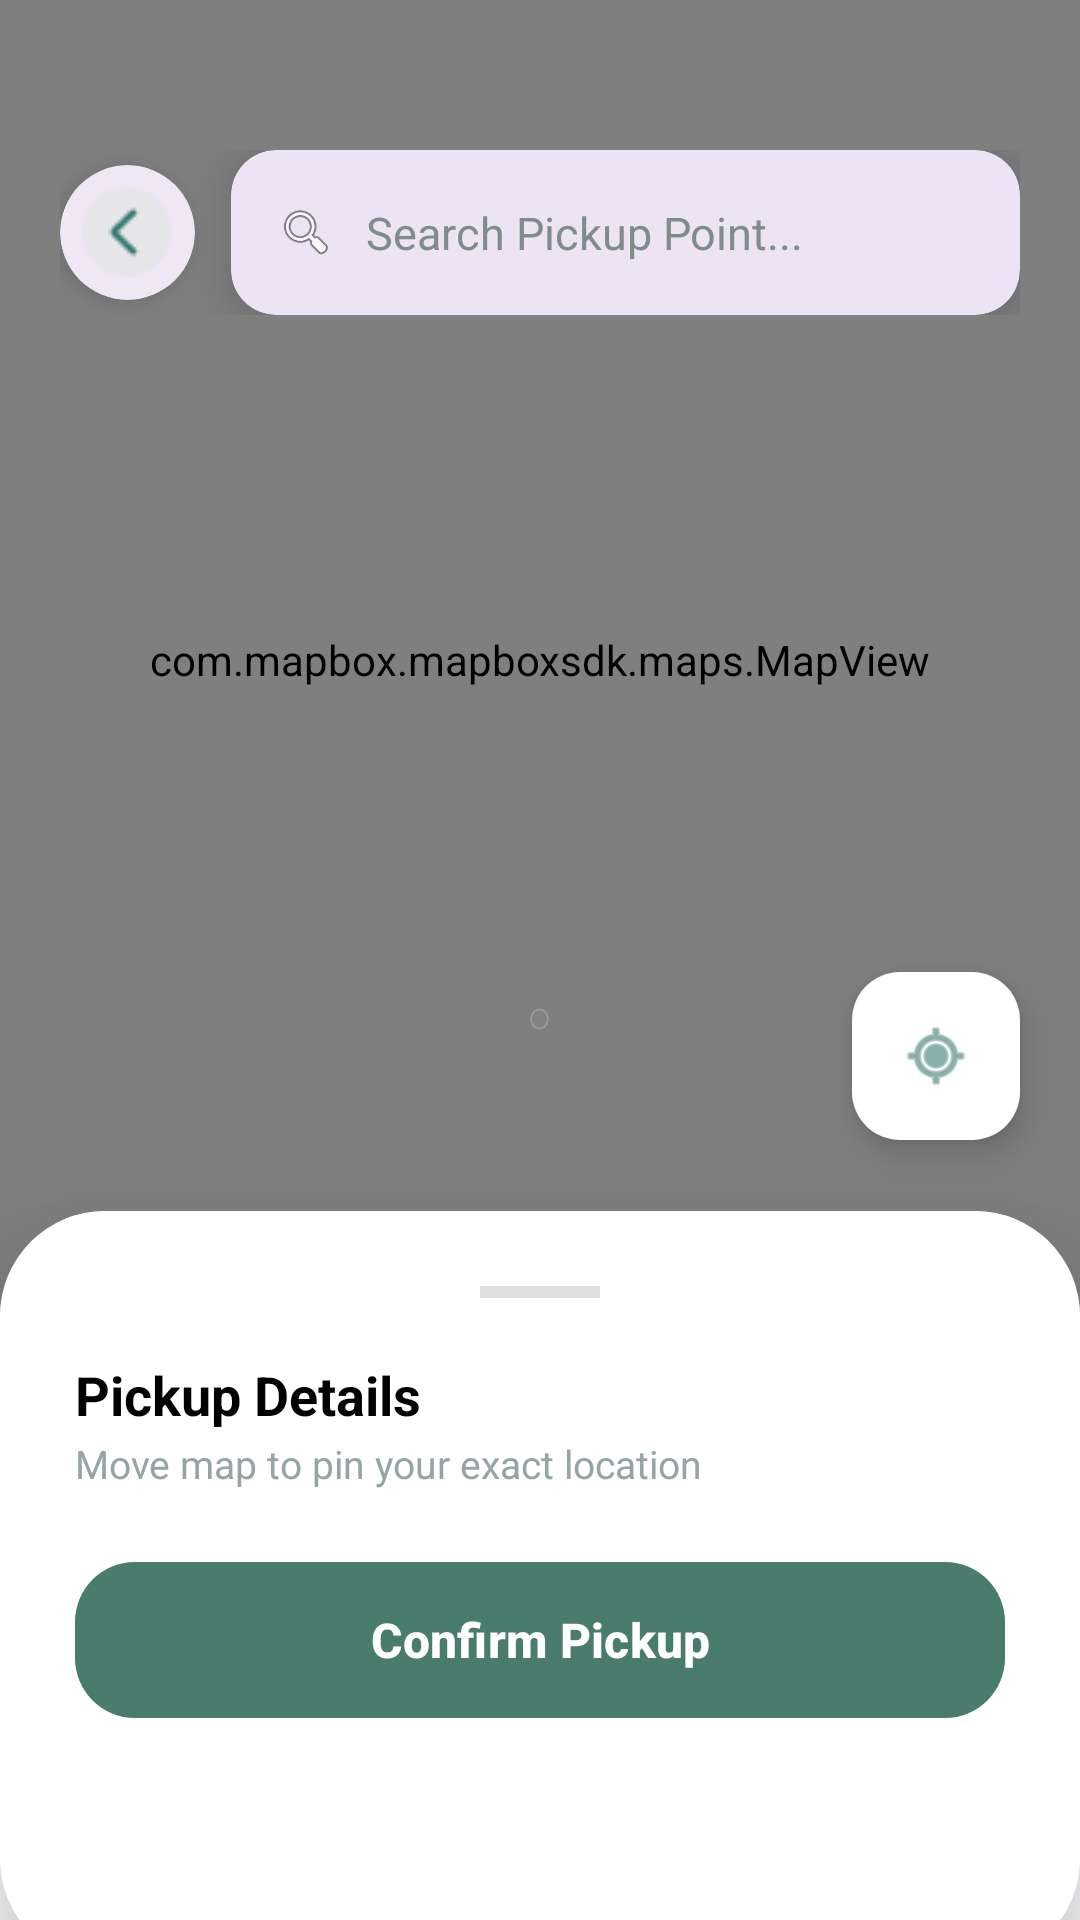

Locate icon controls on the screen. Image size 1080w x 1920h, boxes as (x1, y1, x2, y2).
mylocation: (852, 972, 1020, 1140)
